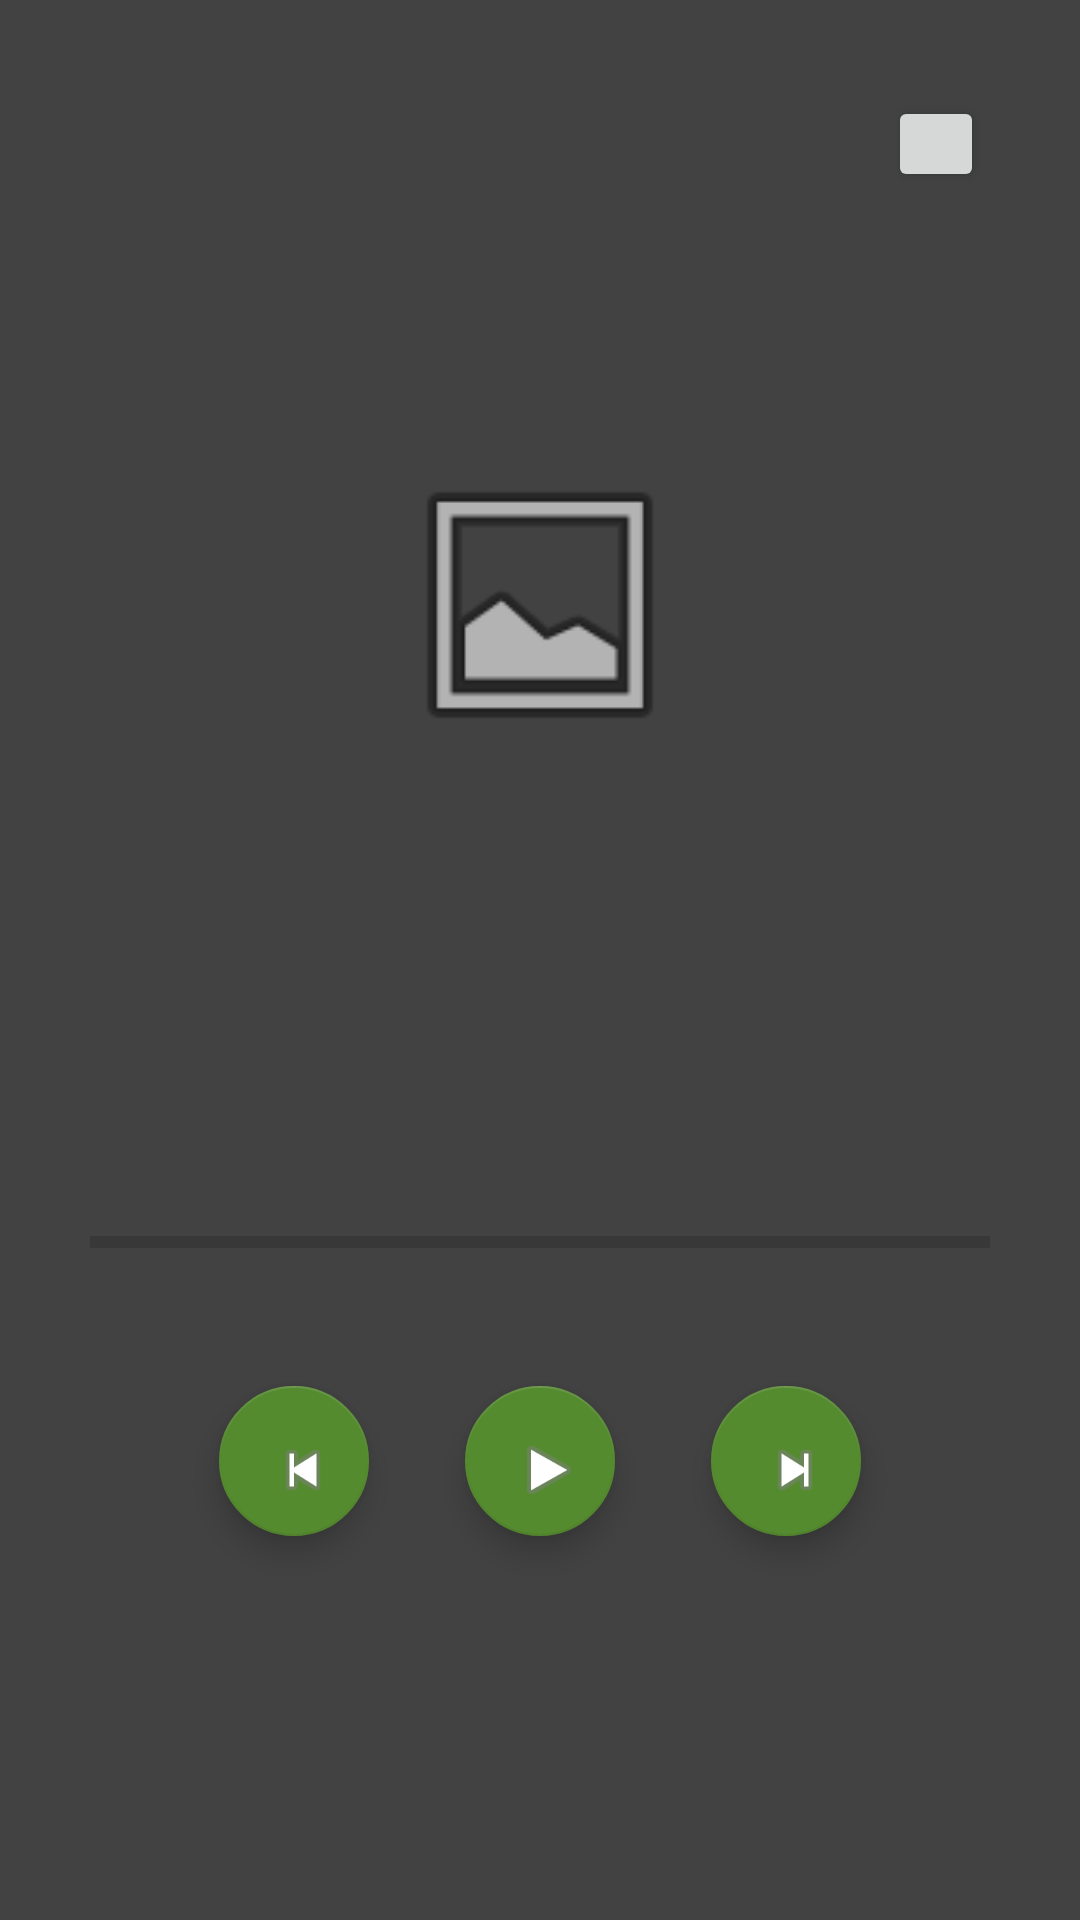

Where icons sit on this 1080×1920 app screen, as (x1, y1, x2, y2):
Image Example: (429, 494, 651, 716)
next: (711, 1386, 861, 1536)
play: (465, 1386, 615, 1536)
previous: (219, 1386, 369, 1536)
